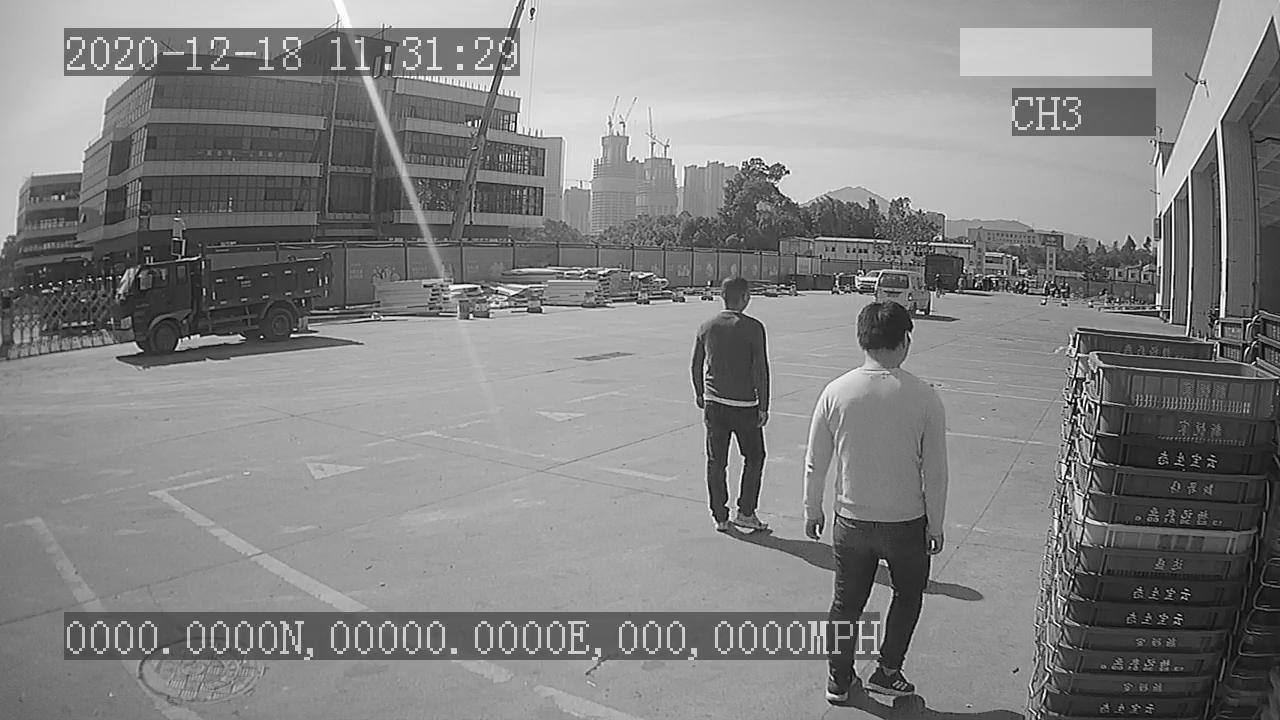person: (688, 268, 777, 534)
